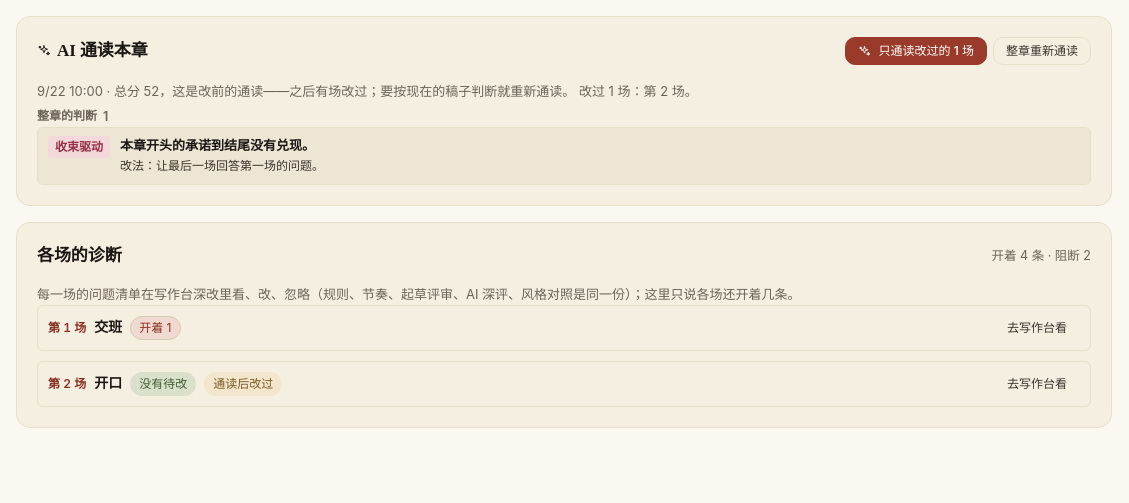
成稿中心 · 诊断页签 › 改前的通读且服务端算得出改过的场：给「只通读改过的 N 场」（POST scope=changed）与「整章重新通读」；沿用的发现标出来；没改过时说一句
Expected: the button "整章重新通读" is shown, [993,37,1091,65]
Click the button "只通读改过的 1 场". click: click(916, 51)
box: [845,37,987,65]
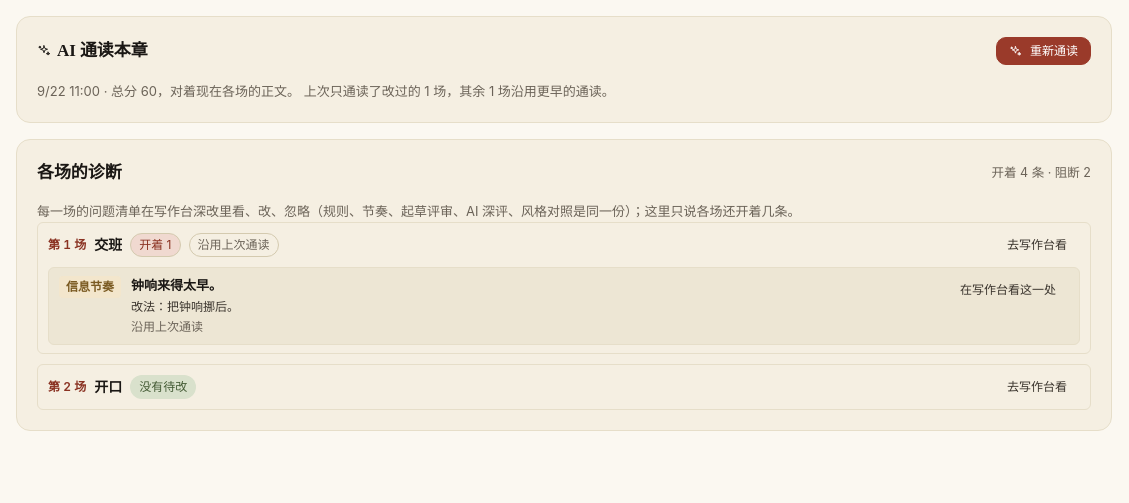
Expected: the text "上次只通读了改过的 1 场，其余 1 场沿用更早的通读" is shown, [300,83,615,99]
Expected: the text "沿用上次通读" is shown, [188,233,278,257]
Expected: the text "钟响来得太早" is shown, [131,277,222,293]
Click the button "重新通读". click: click(1044, 51)
box: [996,37,1091,65]
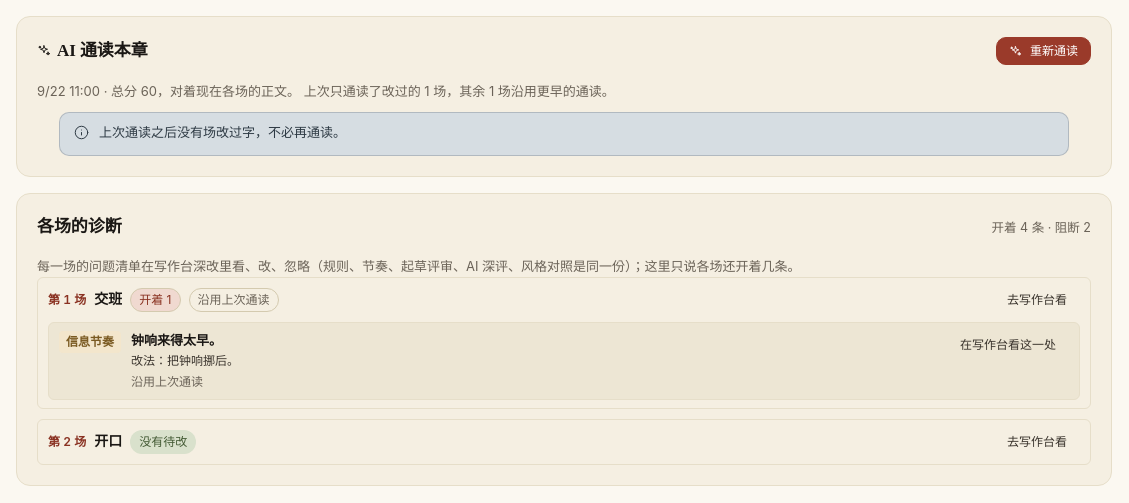
Expected: the text "不必再通读" is shown, [99,124,346,140]
